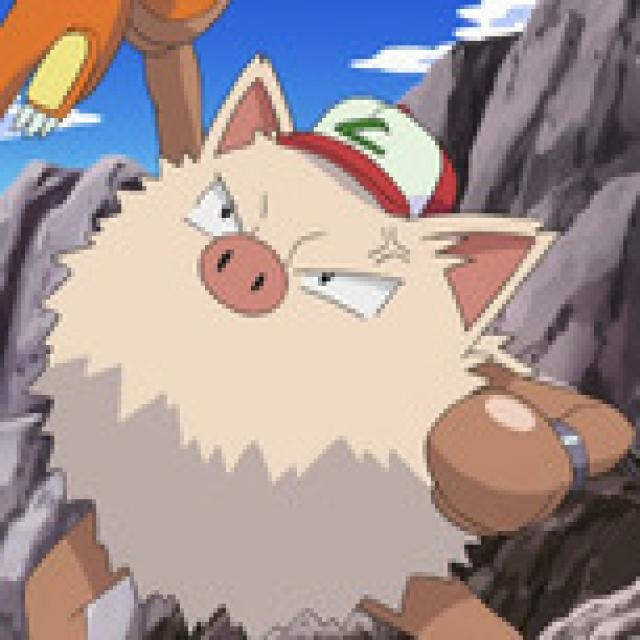Primeape: (71, 130, 625, 640)
